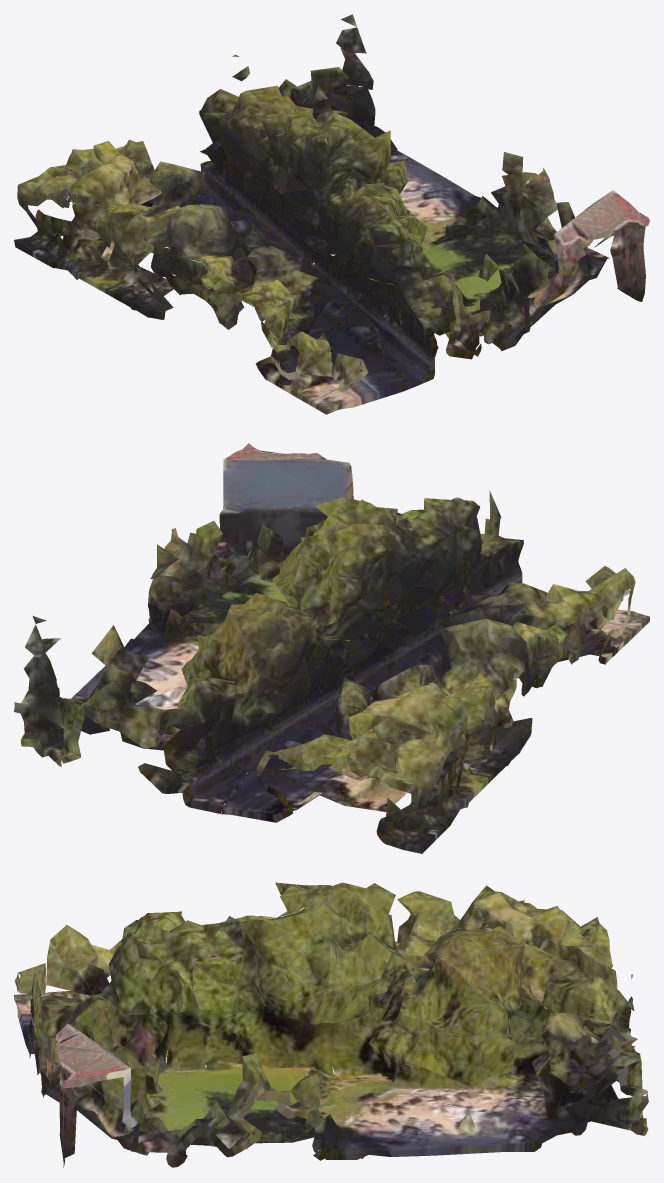
The picture shows the model from 3 angles, top to bottom: view 1: azimuth 30°, elevation 25°; view 2: azimuth 150°, elevation 25°; view 3: azimuth 270°, elevation 25°; orthographic projection. The views are drawn at different scales.
Parts seen in each view (by area): view 1: Mesh_0; view 2: Mesh_0; view 3: Mesh_0.
Boxes of the visible parts, x1,y1,x2,y2 form: Mesh_0: [14, 14, 649, 414]; Mesh_0: [14, 443, 649, 853]; Mesh_0: [14, 882, 648, 1167].
Bounding box in the file's own units: 66.85 × 28.04 × 82.66.
1 material, 1 textured.
